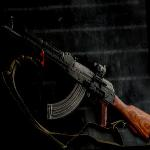Senapan: (0, 14, 150, 150)
